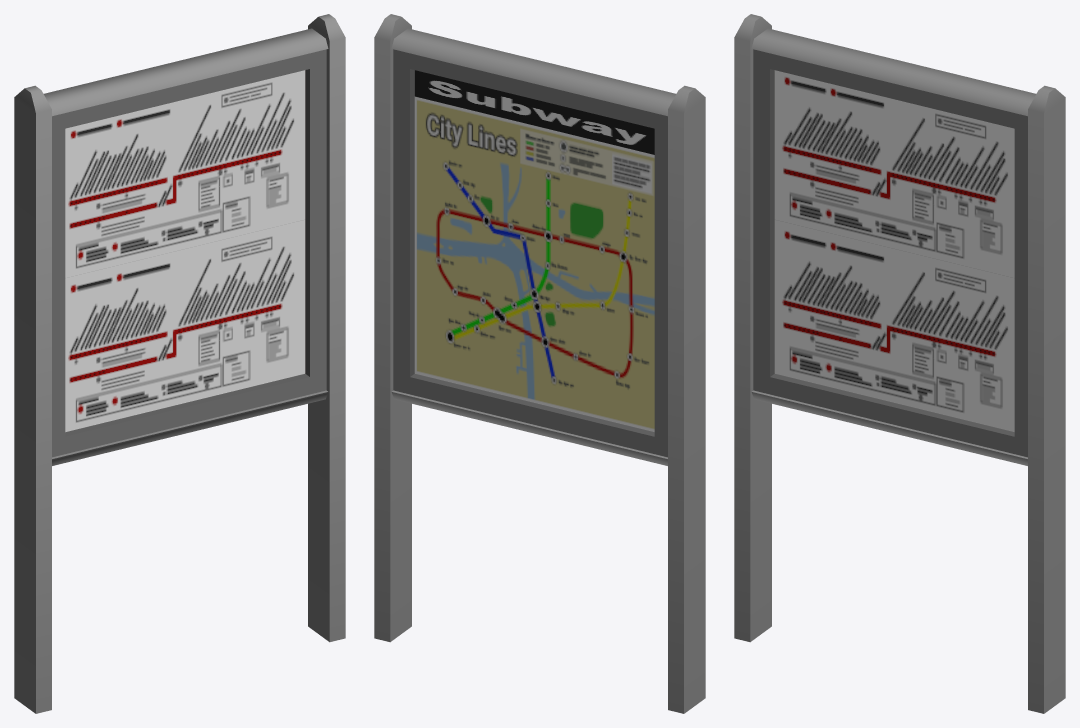
The model's file is SW_PROP_TimeTableMap.fbx.
3 renders of one model, left to right at view 1: azimuth 30°, elevation 25°; view 2: azimuth 150°, elevation 25°; view 3: azimuth 330°, elevation 25°, orthographic.
Parts seen in each view (by area): view 1: SW_PROP_TimeTableMap; view 2: SW_PROP_TimeTableMap; view 3: SW_PROP_TimeTableMap.
Boxes of the visible parts, box(x1,y1,x2,y2) form: SW_PROP_TimeTableMap: box(14, 14, 345, 713); SW_PROP_TimeTableMap: box(374, 14, 705, 713); SW_PROP_TimeTableMap: box(734, 14, 1065, 713).
Bounding box in the file's own units: 1.16 × 2.2 × 0.14.
